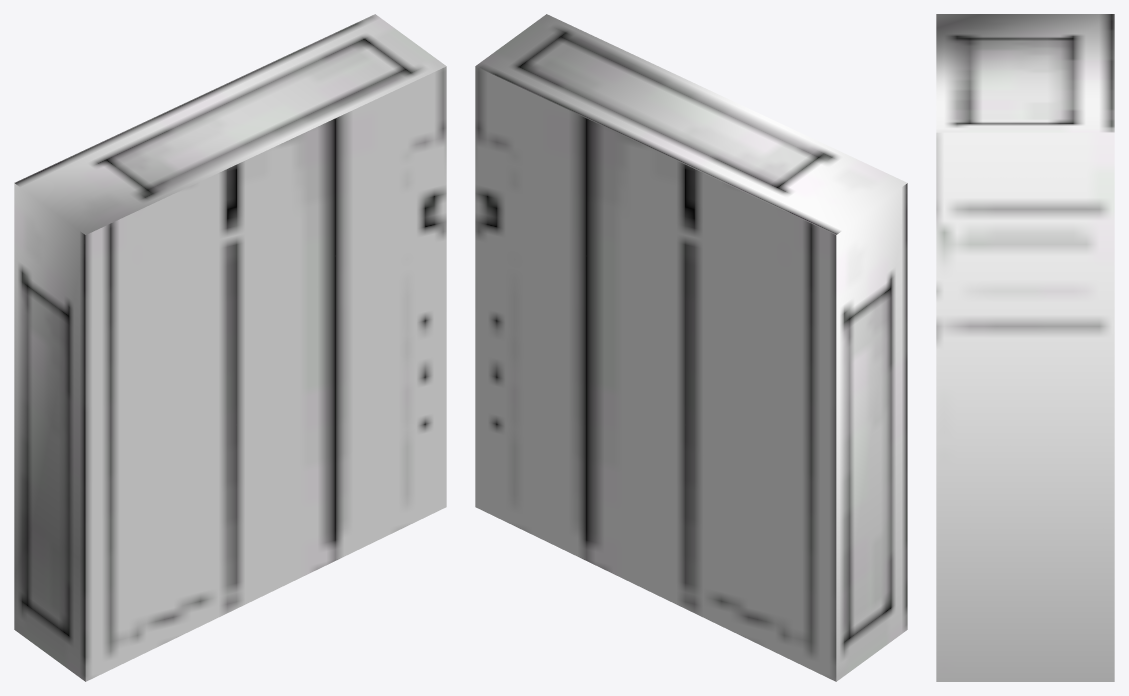
Rendered from Weapon_Armas_SniperRifle_50Cal_Weapon_Armas_SniperRifle_50Cal_StaticMesh3_Enf_SniperRifle_ClipEmpty_mk2_LOD0.pskx.glb.
The picture shows the model from 3 angles, left to right: view 1: azimuth 30°, elevation 25°; view 2: azimuth 150°, elevation 25°; view 3: azimuth 270°, elevation 25°; orthographic projection. The views are drawn at different scales.
Bounding box in the file's own units: 7.69 × 10.74 × 2.64.
Materials: 1 (1 with a texture image).
